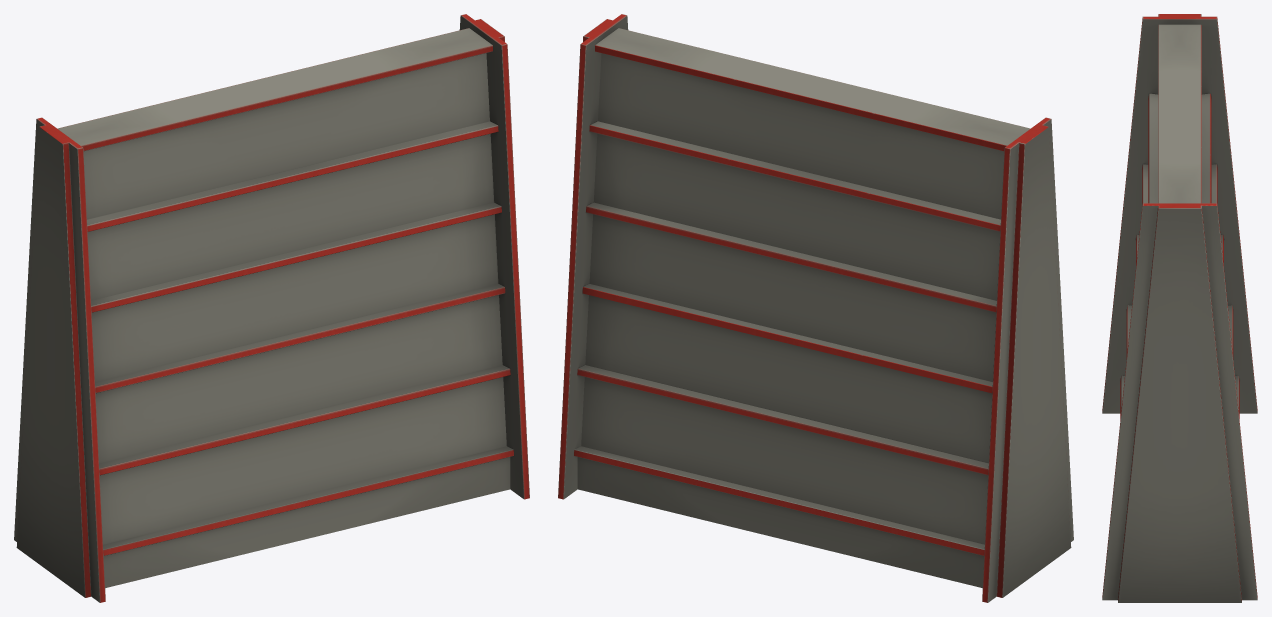
Rendered from video_store_shelf_small.fbx.
3 views of the same model, side by side, from view 1: azimuth 30°, elevation 25°; view 2: azimuth 150°, elevation 25°; view 3: azimuth 270°, elevation 25° (orthographic). The views are drawn at different scales.
Parts seen in each view (by area): view 1: Mesh14_Group19_Group18_Group1_Model; view 2: Mesh14_Group19_Group18_Group1_Model; view 3: Mesh14_Group19_Group18_Group1_Model.
Boxes of the visible parts, x1=… form: Mesh14_Group19_Group18_Group1_Model: x1=14, y1=14, x2=529, y2=602; Mesh14_Group19_Group18_Group1_Model: x1=558, y1=14, x2=1073, y2=602; Mesh14_Group19_Group18_Group1_Model: x1=1102, y1=14, x2=1257, y2=602.
Size of the model in its own units: 148 by 140 by 50.
Materials: 1 (1 with a texture image).
